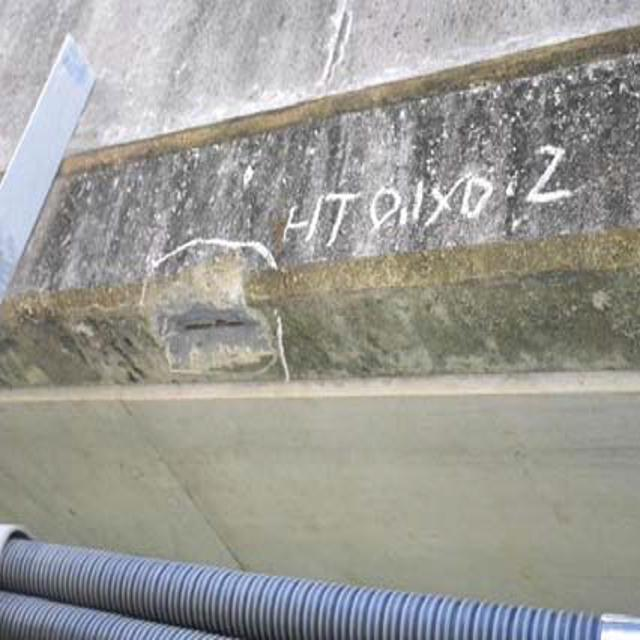spalling: (134, 270, 300, 384)
